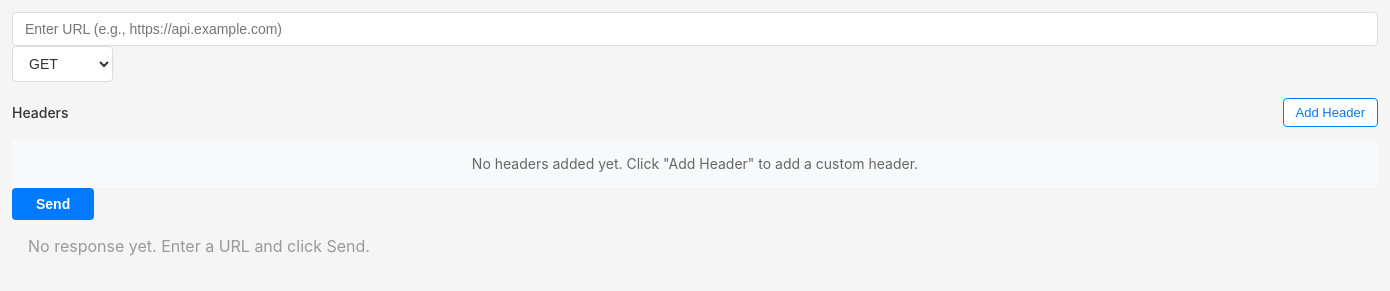
Integration: Custom Headers Workflow › should work with empty headers list
# Enter URL
Type "https://api.example.com" into the field with placeholder "Enter URL (e.g., https://api.example.com)" at (695, 29), box [12,12,1378,46]
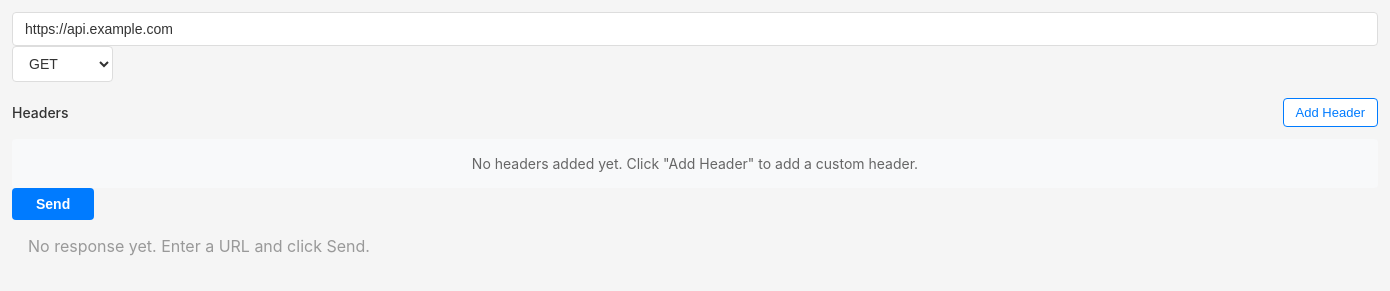
# Don't add any headers, just send request
Click the button "Send" at (53, 204), box [12,188,94,220]
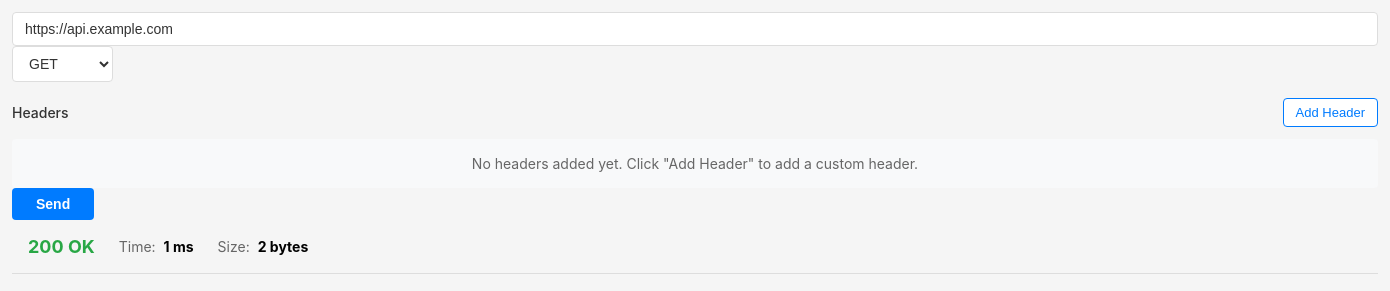
Expected: the text "200 OK" is shown, [28,236,95,257]
